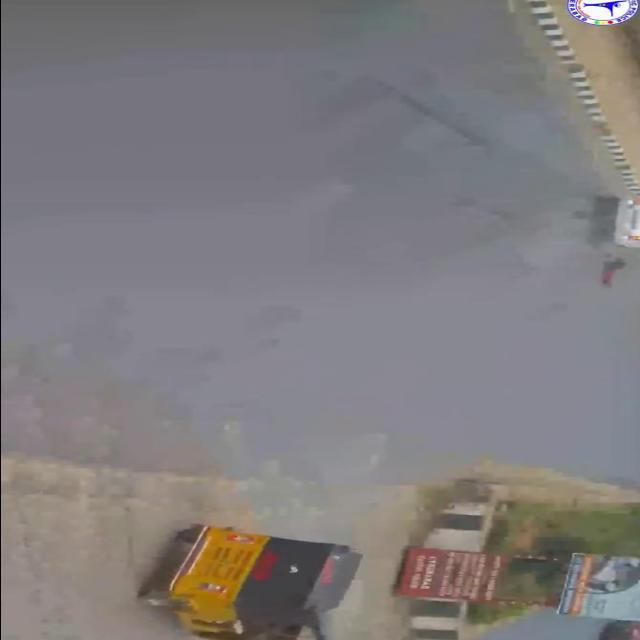accident: (583, 186, 640, 291)
